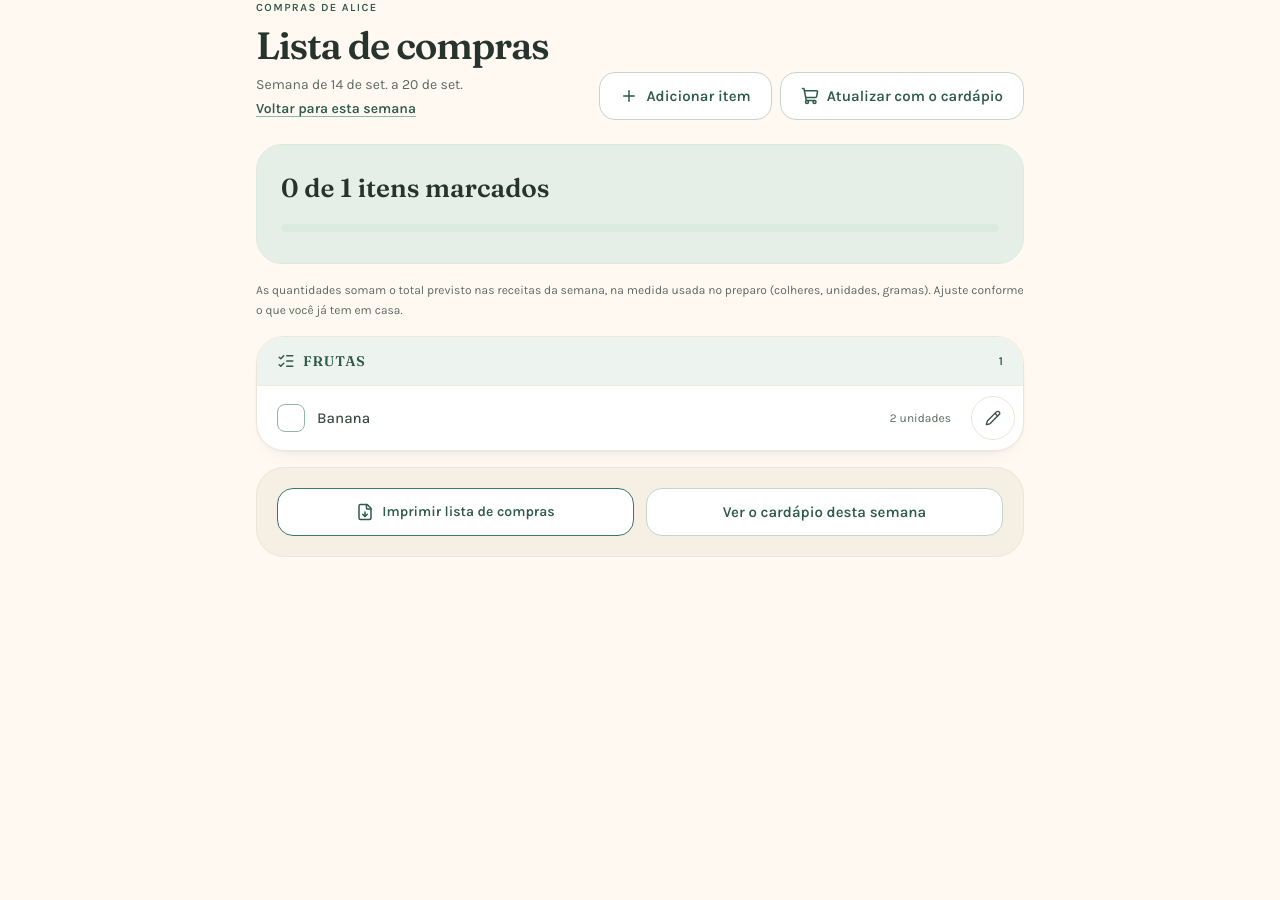
Scenario: pede confirmação antes de substituir a lista existente
The image size is (1280, 900).
Click the button "Atualizar com o cardápio" at (902, 96), box [780,72,1024,120]
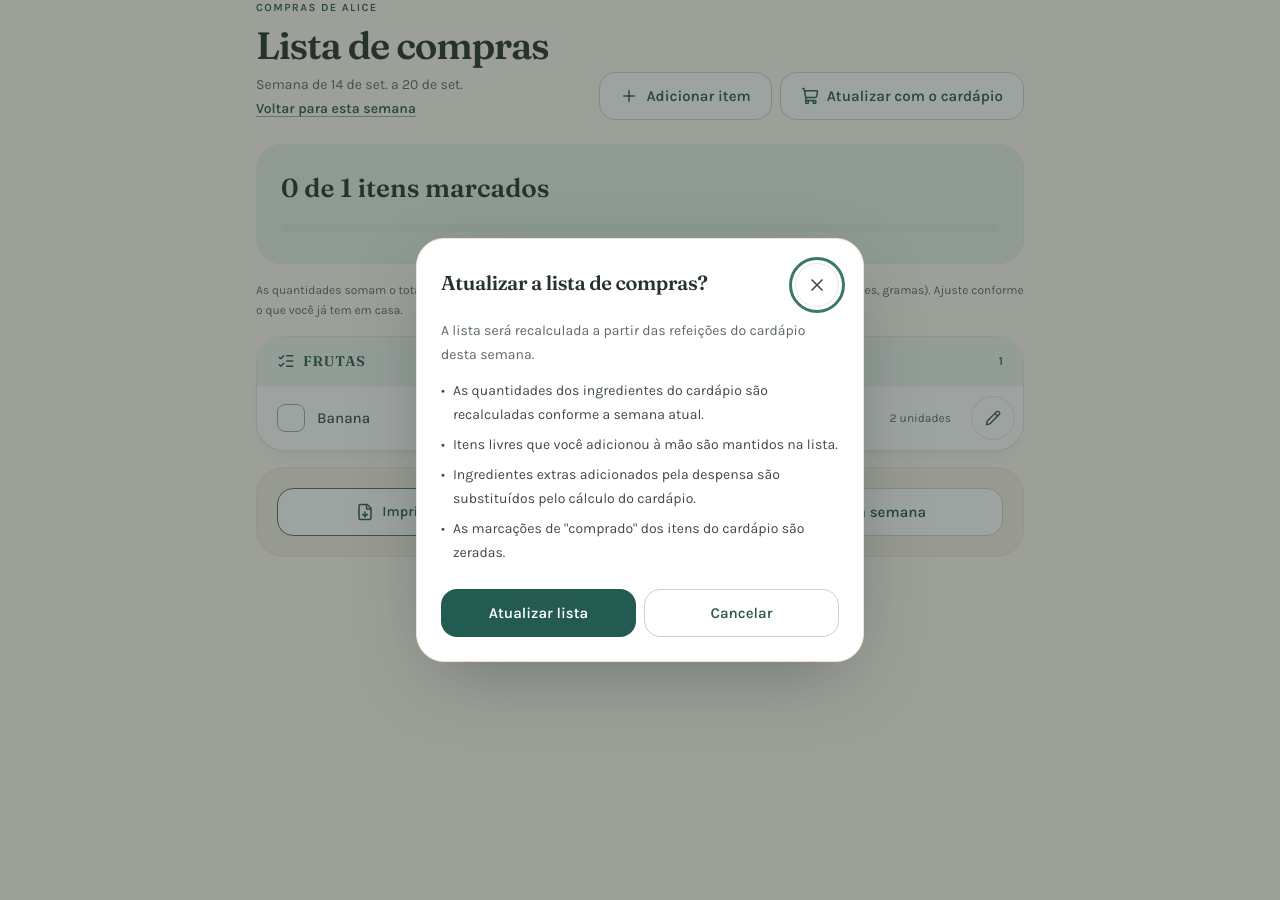
Check: the dialog is shown, box [416,238,864,662]
Check: the text "marcações de \"comprado\" dos itens do cardápio são zeradas" is shown, box [453,520,804,561]
Check: the text "Itens livres que você adicionou à mão são mantidos na lista." is shown, box [453,433,838,457]
